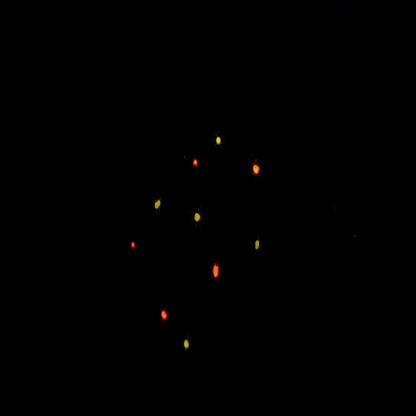PE: (177, 329, 196, 363), (189, 200, 207, 234), (247, 231, 267, 261), (212, 126, 229, 156), (150, 193, 167, 221)
PVC: (150, 297, 175, 338), (124, 232, 143, 265), (249, 149, 265, 188), (209, 254, 226, 285), (188, 150, 204, 178)
